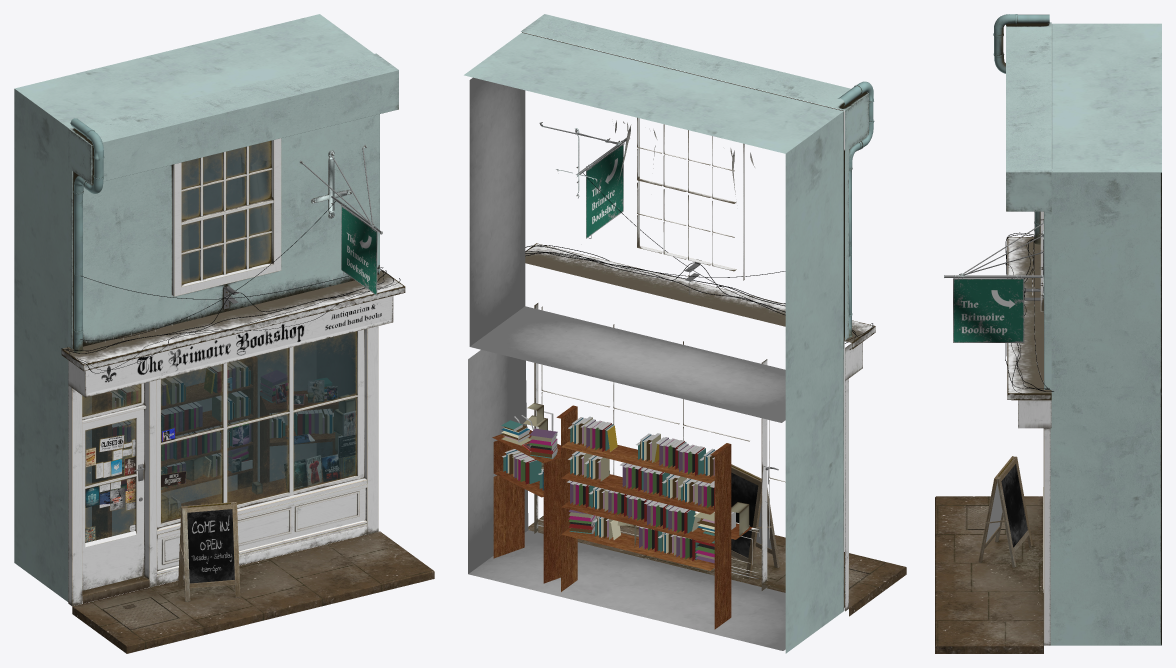
File: bookshop.glb
The picture shows the model from 3 angles, left to right: view 1: azimuth 30°, elevation 25°; view 2: azimuth 150°, elevation 25°; view 3: azimuth 270°, elevation 25°; orthographic projection. The views are drawn at different scales.
Visible parts, largest first — view 1: bookshop; view 2: bookshop; view 3: bookshop.
Part boxes in pixels (<box>): bookshop: <box>14,14,434,653</box>; bookshop: <box>464,14,906,653</box>; bookshop: <box>935,14,1161,653</box>.
Size of the model in its own units: 5.2 by 7.48 by 3.13.
Materials: 9 (9 with a texture image).
